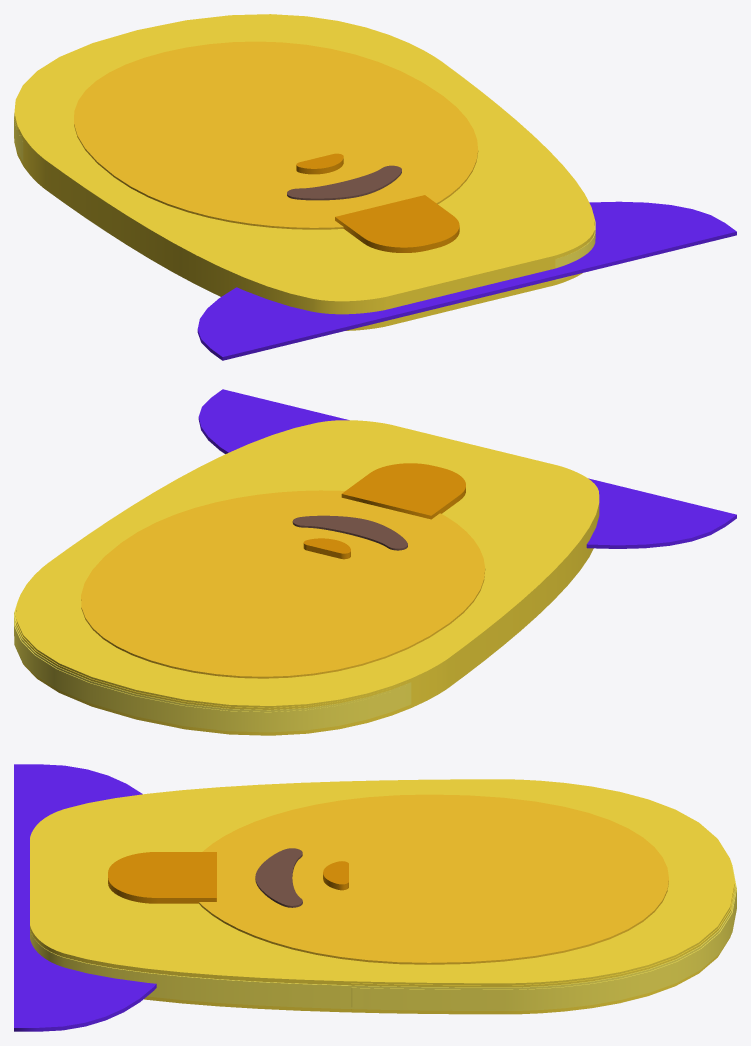
File: emoji_u1f471_200d_2640.glb
3 views of the same model, one above another, from view 1: azimuth 30°, elevation 25°; view 2: azimuth 150°, elevation 25°; view 3: azimuth 270°, elevation 25° (orthographic). The views are drawn at different scales.
Parts seen in each view (by area): view 1: emoji_u1f471_200d_2640; view 2: emoji_u1f471_200d_2640; view 3: emoji_u1f471_200d_2640.
Part boxes in pixels (x1,y1,x2,y2): emoji_u1f471_200d_2640: (14,14,736,360); emoji_u1f471_200d_2640: (14,389,736,735); emoji_u1f471_200d_2640: (14,764,736,1031).
Size of the model in its own units: 0.029 by 0.0024 by 0.0337.
